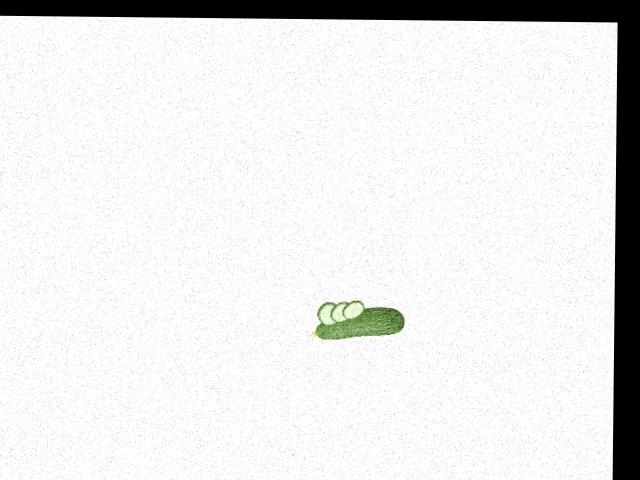cucumber: (310, 306, 406, 340)
